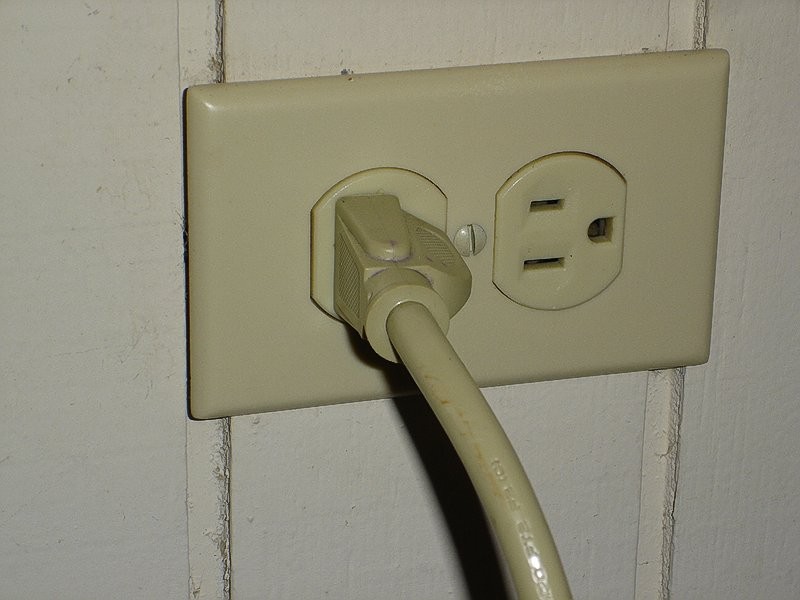outlet: (519, 188, 619, 277)
